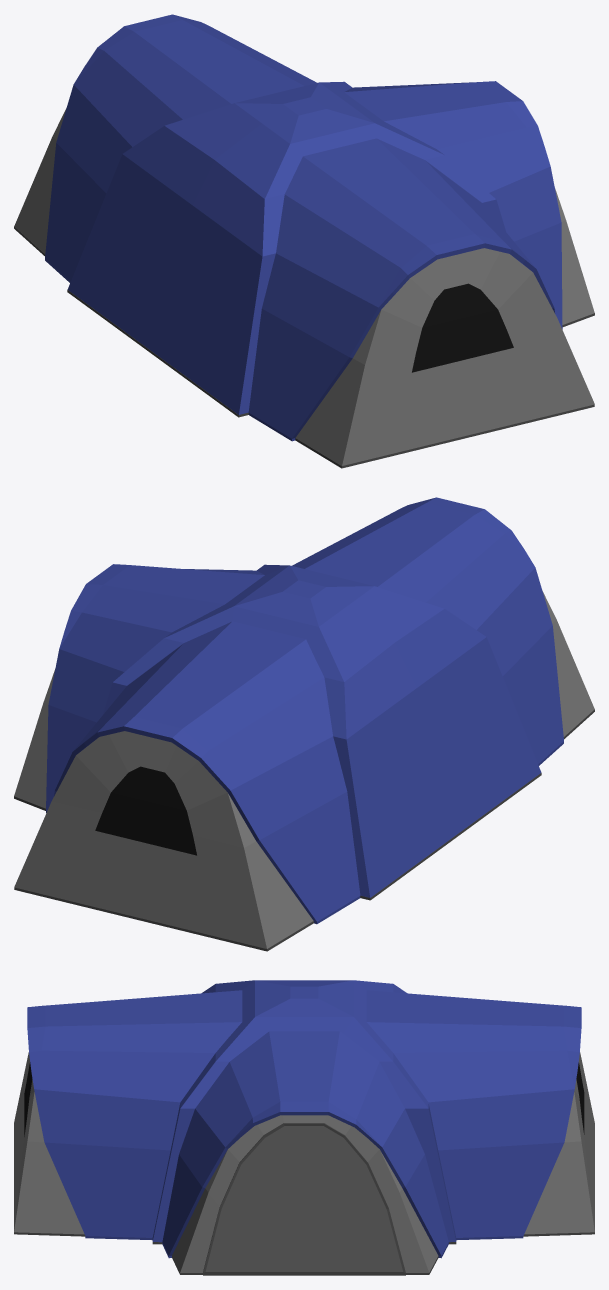
File: Tent.fbx
3 views of the same model, one above another, from view 1: azimuth 30°, elevation 25°; view 2: azimuth 150°, elevation 25°; view 3: azimuth 270°, elevation 25° (orthographic). The views are drawn at different scales.
Parts seen in each view (by area): view 1: BaseSides, BaseCenter, BaseFront, BaseCenter.001, BaseSides.001, Floor; view 2: BaseSides, BaseCenter, BaseFront, BaseCenter.001, BaseSides.001, Floor; view 3: BaseSides, BaseFront, Floor, BaseCenter, BaseCenter.001, BaseSides.001, BaseFront.001.
Boxes of the visible parts, x1,y1,x2,y2 form: BaseSides: (14,14,594,465); BaseCenter: (67,81,497,414); BaseFront: (344,81,594,329); BaseCenter.001: (68,82,505,414); BaseSides.001: (15,118,593,465); Floor: (14,226,594,468); BaseSides: (14,497,594,948); BaseCenter: (113,564,541,897); BaseFront: (14,564,264,812); BaseCenter.001: (103,565,539,897); BaseSides.001: (15,599,593,948); Floor: (14,709,594,951); BaseSides: (14,990,594,1240); BaseFront: (162,1031,448,1275); Floor: (14,1126,594,1274); BaseCenter: (153,980,456,1242); BaseCenter.001: (152,980,456,1242); BaseSides.001: (14,1054,594,1233); BaseFront.001: (172,1115,435,1272).
Bounding box in the file's own units: 426 × 231 × 648.
